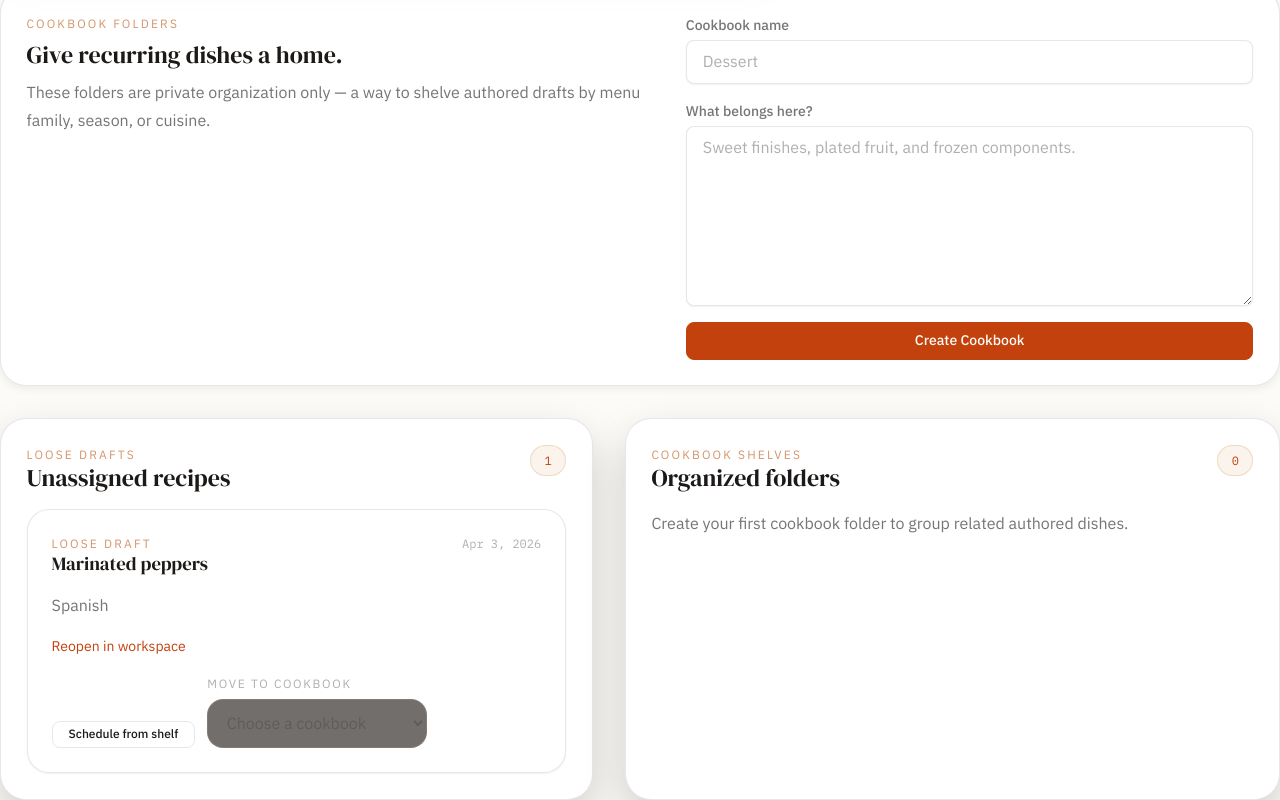
Scenario: RecipeLibraryPage › shows inline recovery when the run kickoff fails after session creation
The image size is (1280, 800).
(page scrolled)
Click the button "Schedule from shelf" at (123, 735), box x1=52 y1=721 x2=195 y2=748
(page scrolled)
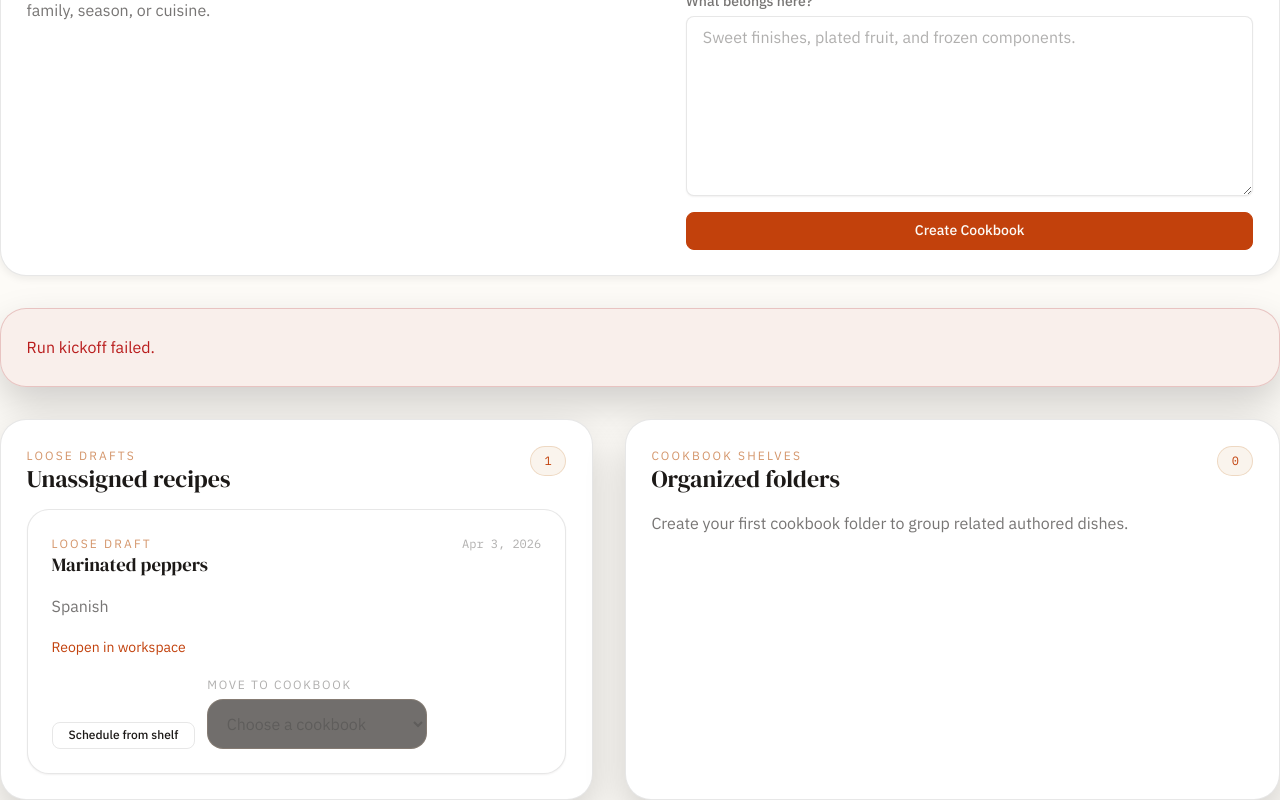
Result: the message reads "Run kickoff failed." at x1=27 y1=337 x2=155 y2=357
